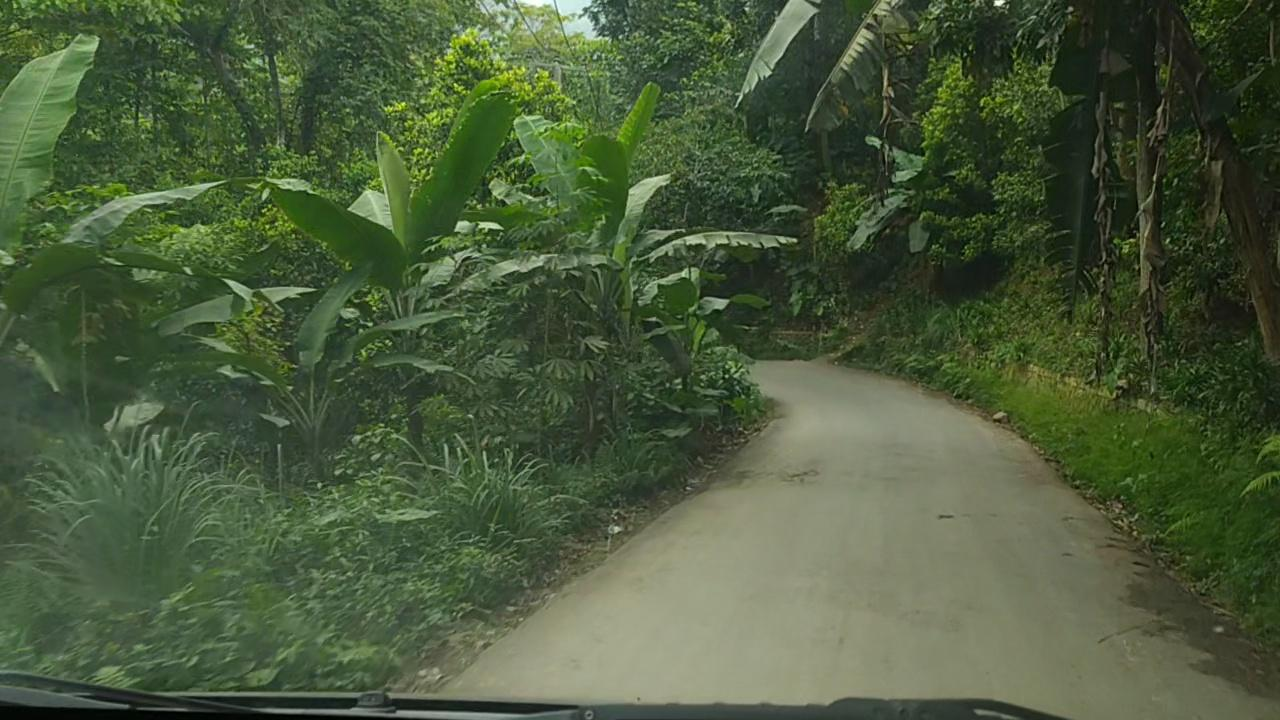pothole: (705, 469, 821, 490)
